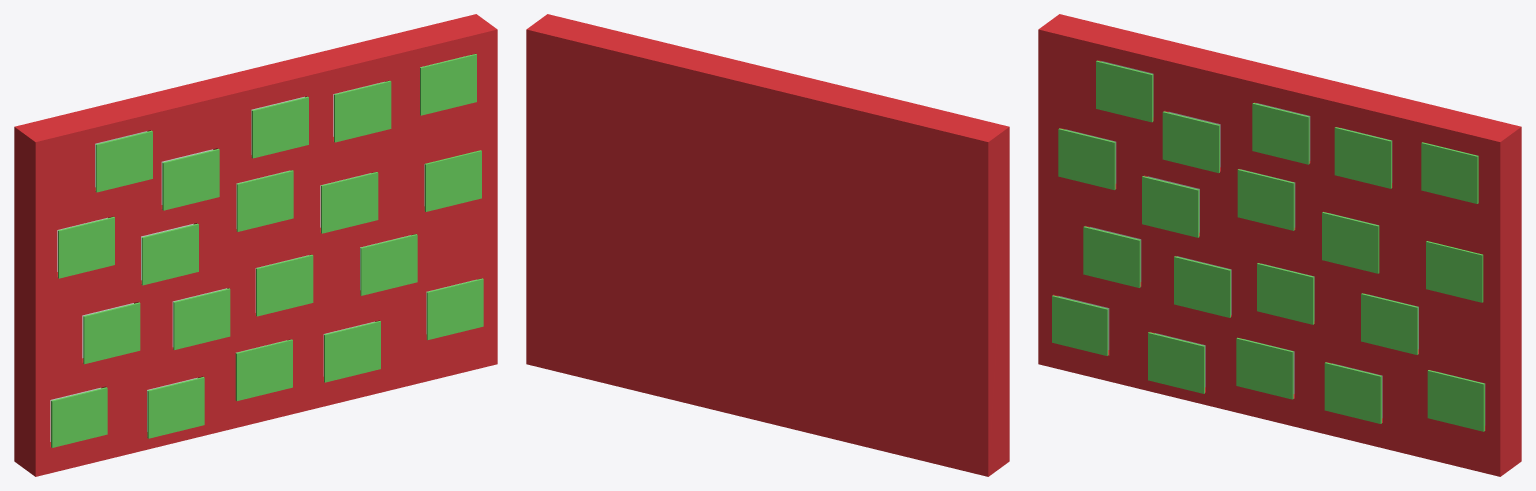
The model's file is Calendar.glb.
3 views of the same model, side by side, from view 1: azimuth 30°, elevation 25°; view 2: azimuth 150°, elevation 25°; view 3: azimuth 330°, elevation 25° (orthographic).
Visible parts, largest first — view 1: Calendar, Door.016, Door.004, Door.006, Door.010, Door.011, Door.014, Door.015, Door.018, Door.002, Door.008, Door.012 (+8 smaller); view 2: Calendar; view 3: Calendar, Door.003, Door.008, Door.009, Door.014, Door.002, Door.007, Door.010, Door.011, Door.012, Door.015, Door.018 (+8 smaller).
Boxes of the visible parts, box(x1,y1,x2,y2) form: Calendar: box(14, 14, 497, 476); Door.016: box(334, 80, 391, 142); Door.004: box(95, 130, 152, 192); Door.006: box(173, 288, 230, 349); Door.010: box(256, 254, 313, 316); Door.011: box(236, 170, 293, 231); Door.014: box(360, 234, 417, 295); Door.015: box(321, 172, 378, 233); Door.018: box(424, 150, 481, 211); Door.002: box(83, 302, 140, 364); Door.008: box(162, 149, 219, 210); Door.012: box(251, 96, 308, 158); Calendar: box(526, 14, 1009, 476); Calendar: box(1038, 14, 1521, 476); Door.003: box(1058, 128, 1115, 190); Door.008: box(1162, 111, 1219, 173); Door.009: box(1236, 337, 1293, 399); Door.014: box(1361, 293, 1418, 354); Door.002: box(1083, 226, 1140, 287); Door.007: box(1142, 176, 1199, 237); Door.010: box(1257, 263, 1314, 324); Door.011: box(1237, 169, 1294, 230); Door.012: box(1252, 103, 1309, 164); Door.015: box(1322, 212, 1379, 273); Door.018: box(1426, 241, 1483, 302).
Bounding box in the file's own units: 7.55 × 5.23 × 0.652.
